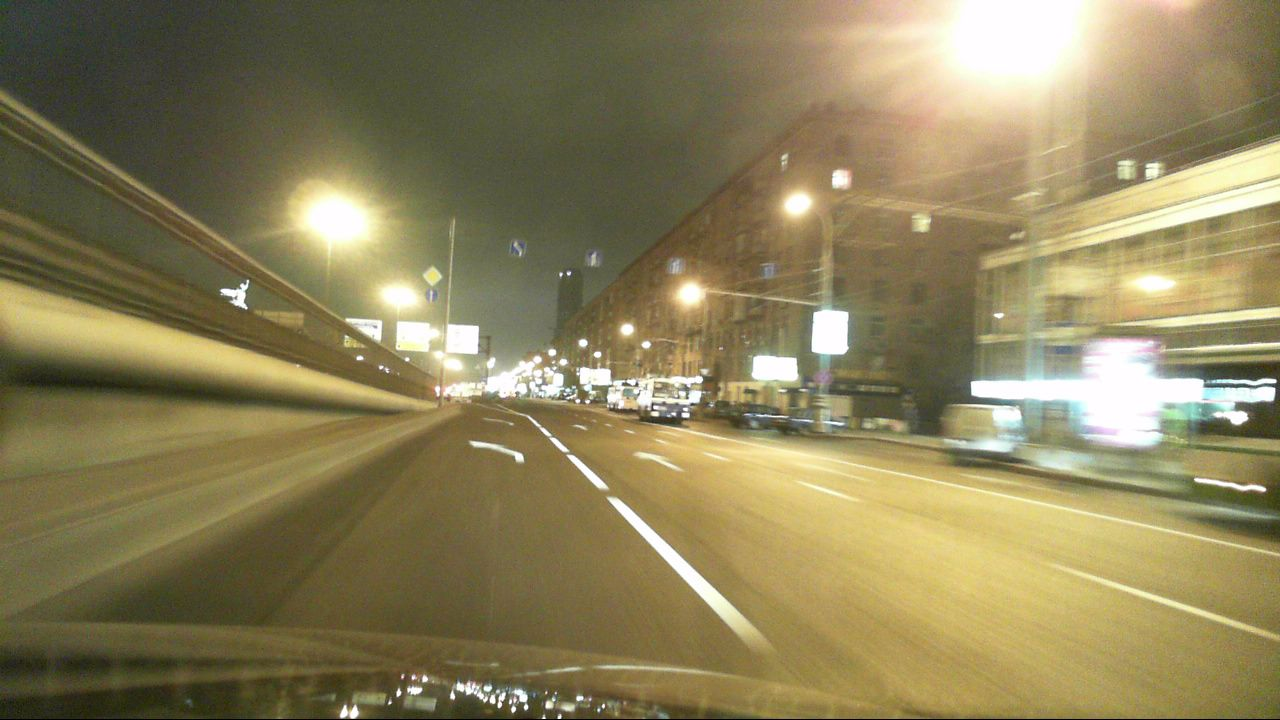No Parking: (814, 369, 831, 386)
